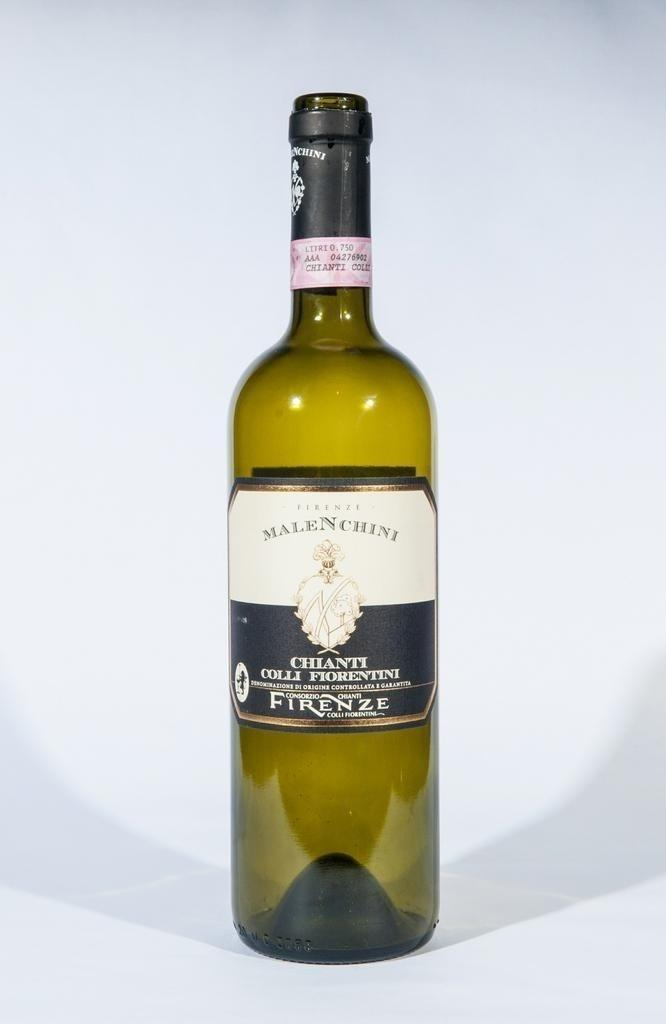bottle-glass: (220, 81, 445, 965)
